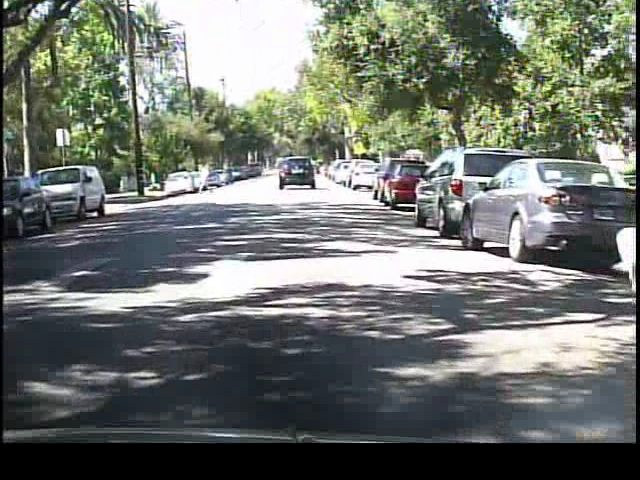person: (195, 159, 214, 198)
